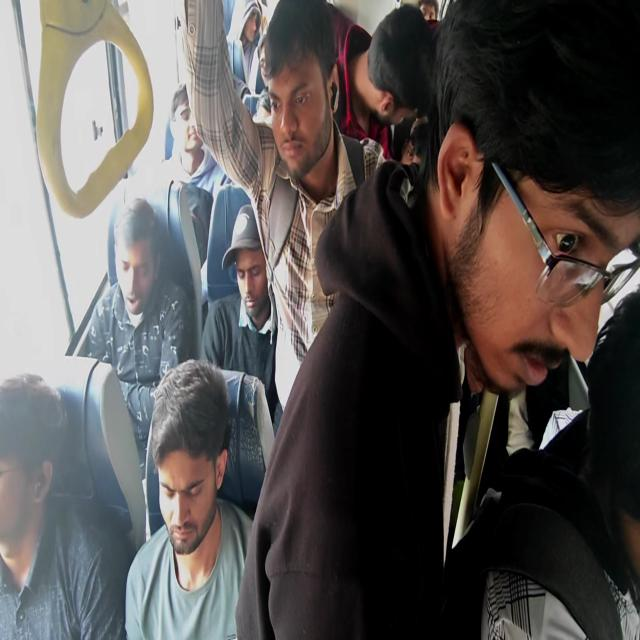person: (102, 231, 171, 330), (375, 9, 425, 136)
